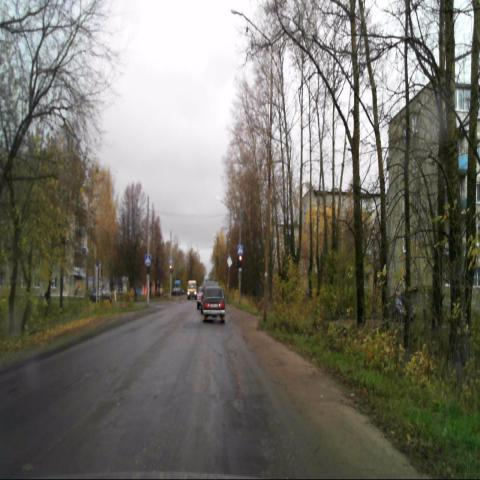5_19_1: (236, 243, 244, 256), (144, 252, 152, 265)
